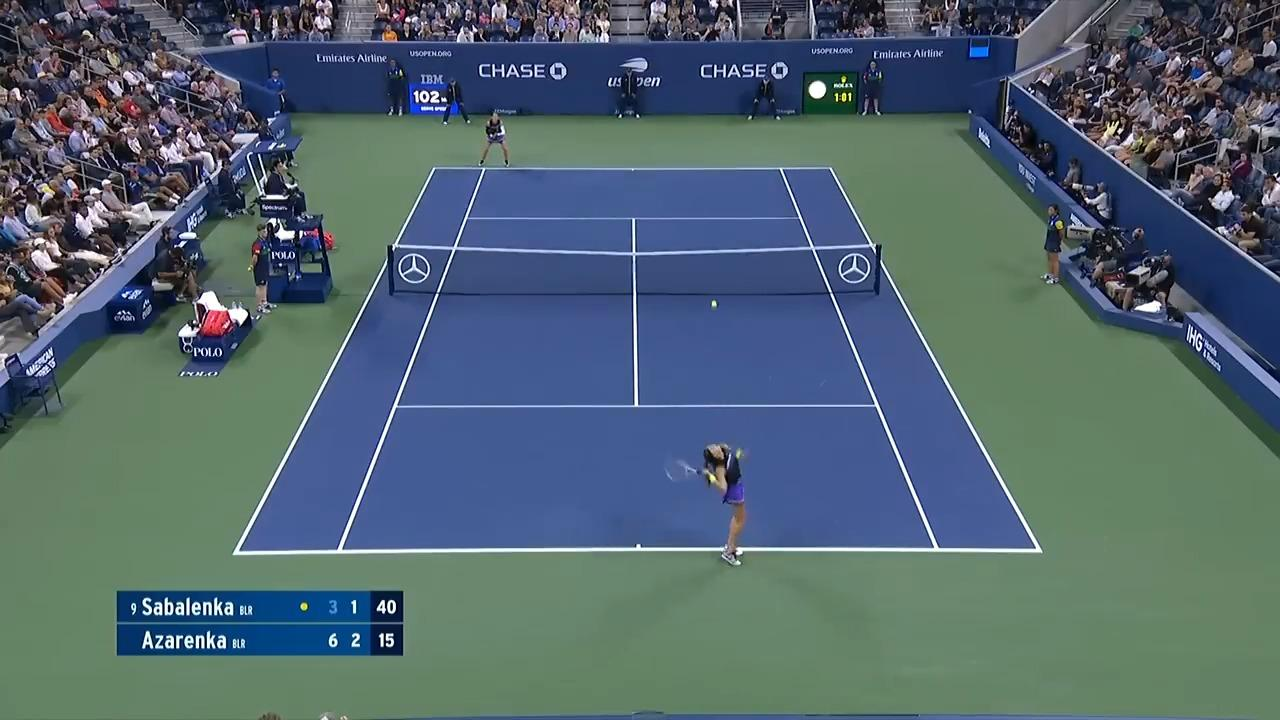tennis ball: (710, 300, 716, 308)
